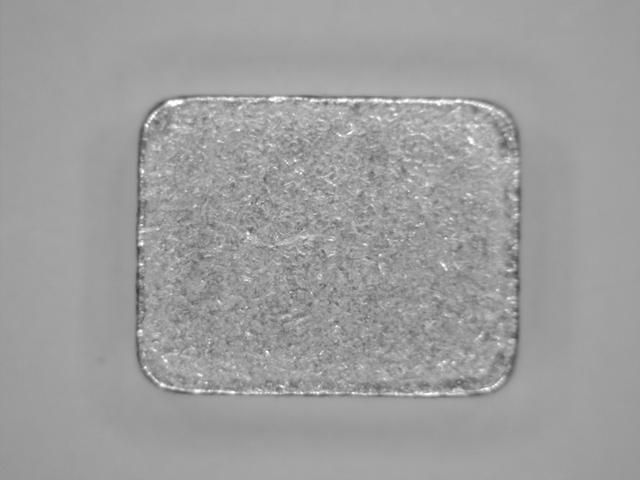ok: (128, 91, 531, 407)
